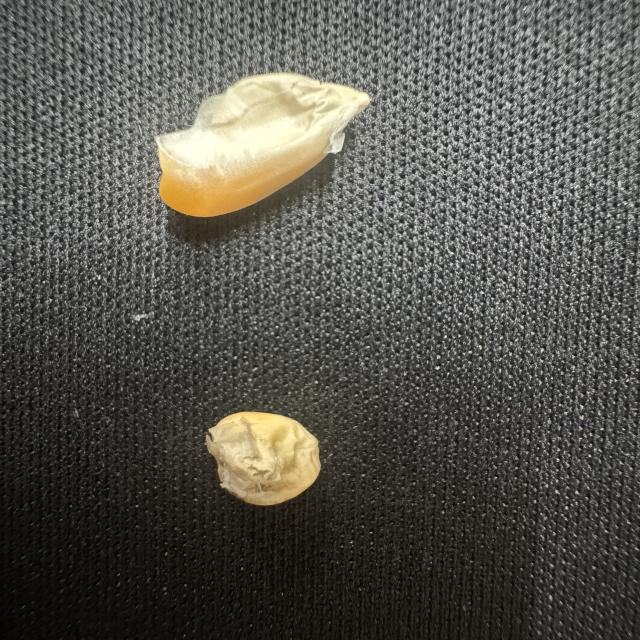Bad-Seed: (150, 67, 378, 222), (203, 406, 328, 510)
